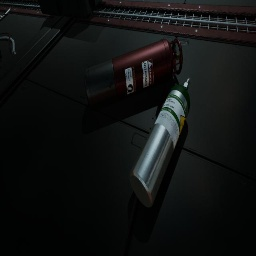0: (130, 78, 190, 208)
FireExtinguisher ]: (0, 49, 2, 59)
NitrogenTank ,: (84, 38, 183, 112)
